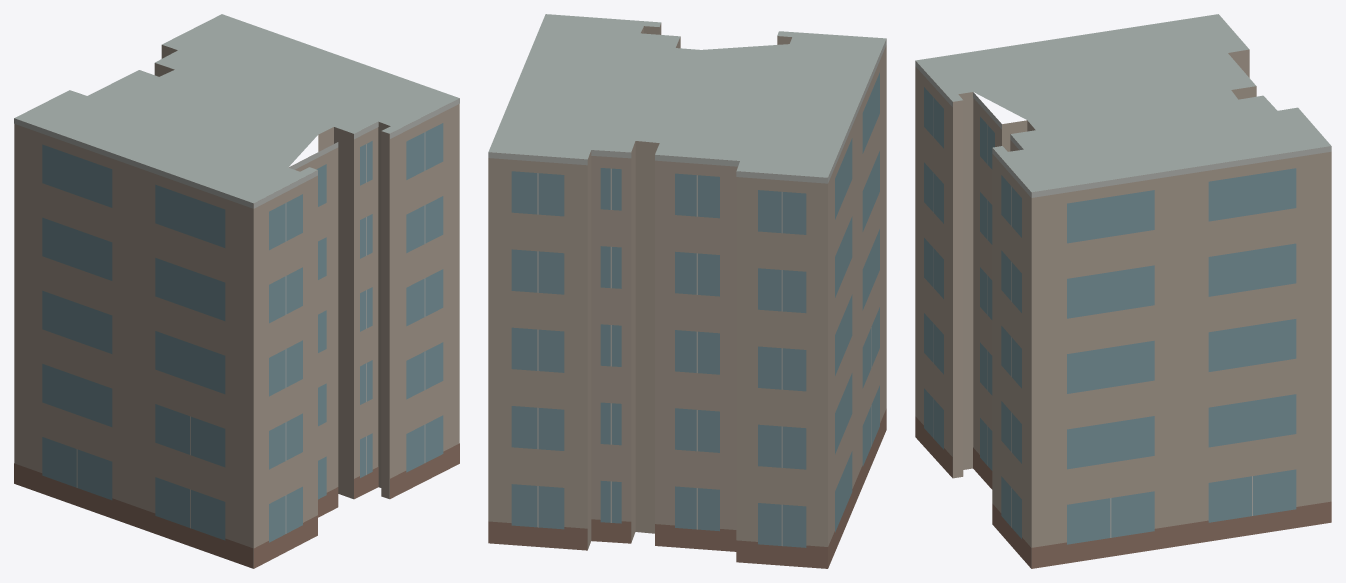
File: survey-upis-32865631.glb
The picture shows the model from 3 angles, left to right: view 1: azimuth 30°, elevation 25°; view 2: azimuth 150°, elevation 25°; view 3: azimuth 270°, elevation 25°; orthographic projection. The views are drawn at different scales.
Visible parts, largest first — view 1: survey-upis-32865631.tmp; view 2: survey-upis-32865631.tmp; view 3: survey-upis-32865631.tmp.
Part boxes in pixels (x1,y1,x2,y2): survey-upis-32865631.tmp: (14, 14, 459, 568); survey-upis-32865631.tmp: (488, 14, 886, 568); survey-upis-32865631.tmp: (915, 14, 1331, 568).
Bounding box in the file's own units: 16.5 × 16.24 × 16.28.
